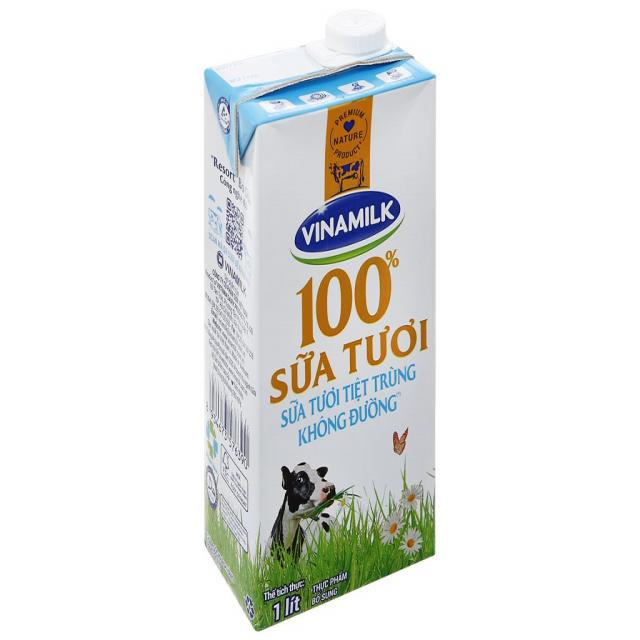non_white_jug: (177, 0, 467, 626)
